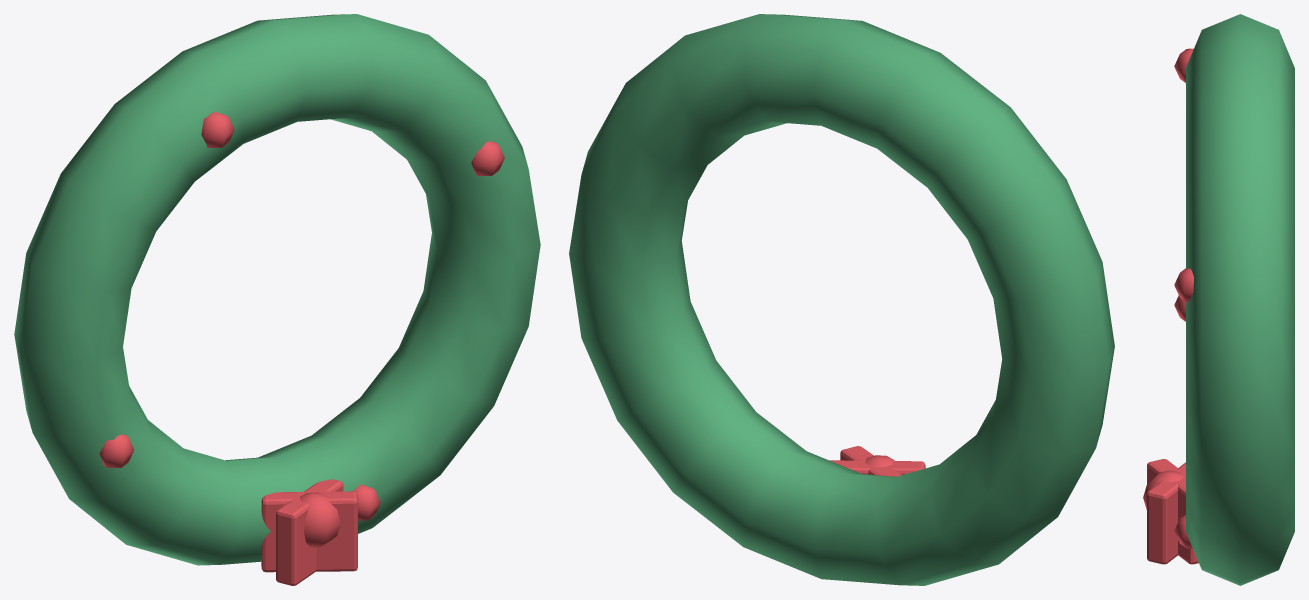
File: Wreath.fbx
The picture shows the model from 3 angles, left to right: view 1: azimuth 30°, elevation 25°; view 2: azimuth 150°, elevation 25°; view 3: azimuth 270°, elevation 25°; orthographic projection. The views are drawn at different scales.
Parts seen in each view (by area): view 1: Wreath; view 2: Wreath; view 3: Wreath.
Part boxes in pixels (x1,y1,x2,y2): Wreath: (14,14,540,585); Wreath: (569,14,1114,585); Wreath: (1143,14,1294,585).
Size of the model in its own units: 74 by 74 by 19.5.
